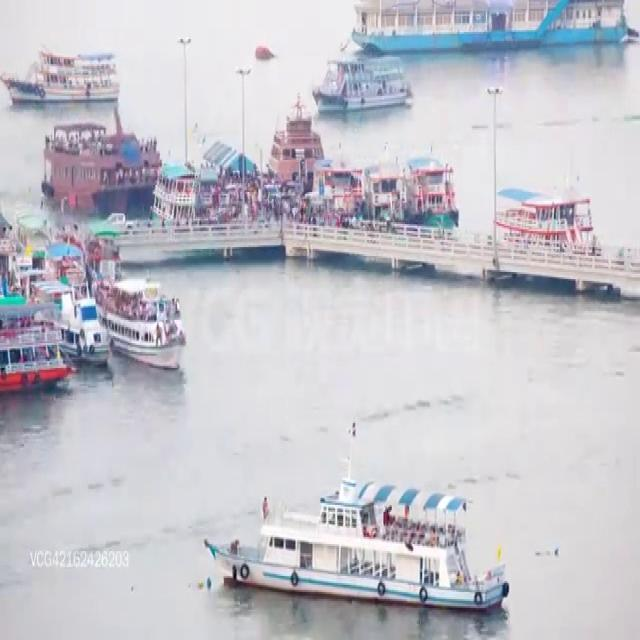passenger ship: (205, 441, 513, 614), (23, 111, 154, 223), (110, 266, 206, 392), (1, 40, 136, 104), (315, 37, 419, 119), (497, 177, 589, 241), (257, 92, 335, 165), (402, 157, 466, 230)
